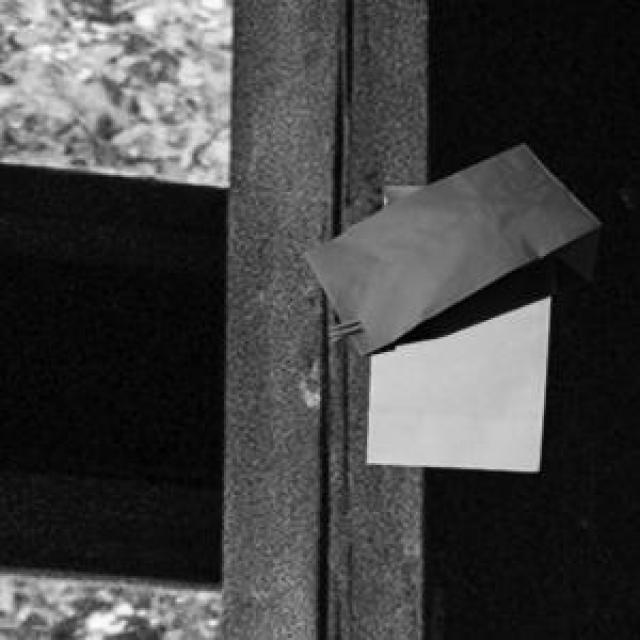paper: (301, 141, 597, 352), (364, 184, 545, 467)
